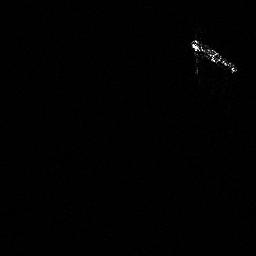ship: (190, 38, 239, 76)
